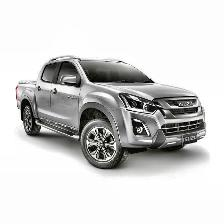NON-EV: (16, 57, 209, 172)
